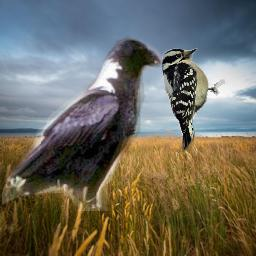Crow: (2, 32, 163, 211)
Woodpecker: (160, 46, 225, 152)
